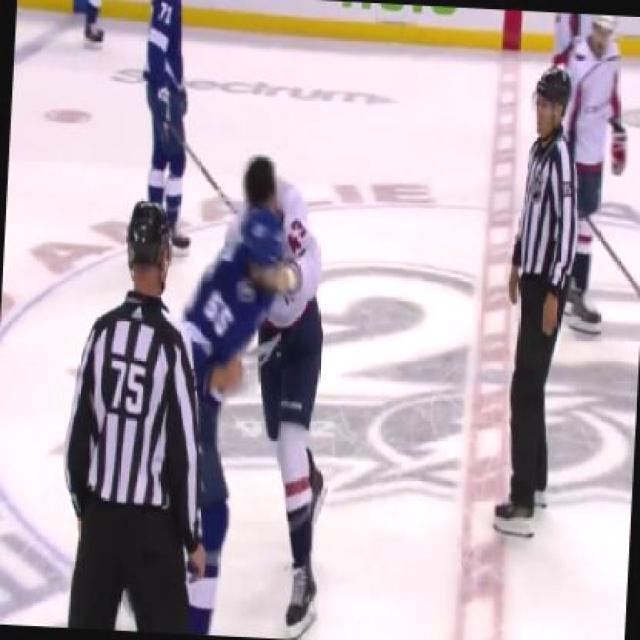fight: (160, 144, 349, 638)
non-fight: (55, 195, 208, 632), (487, 62, 587, 538)
